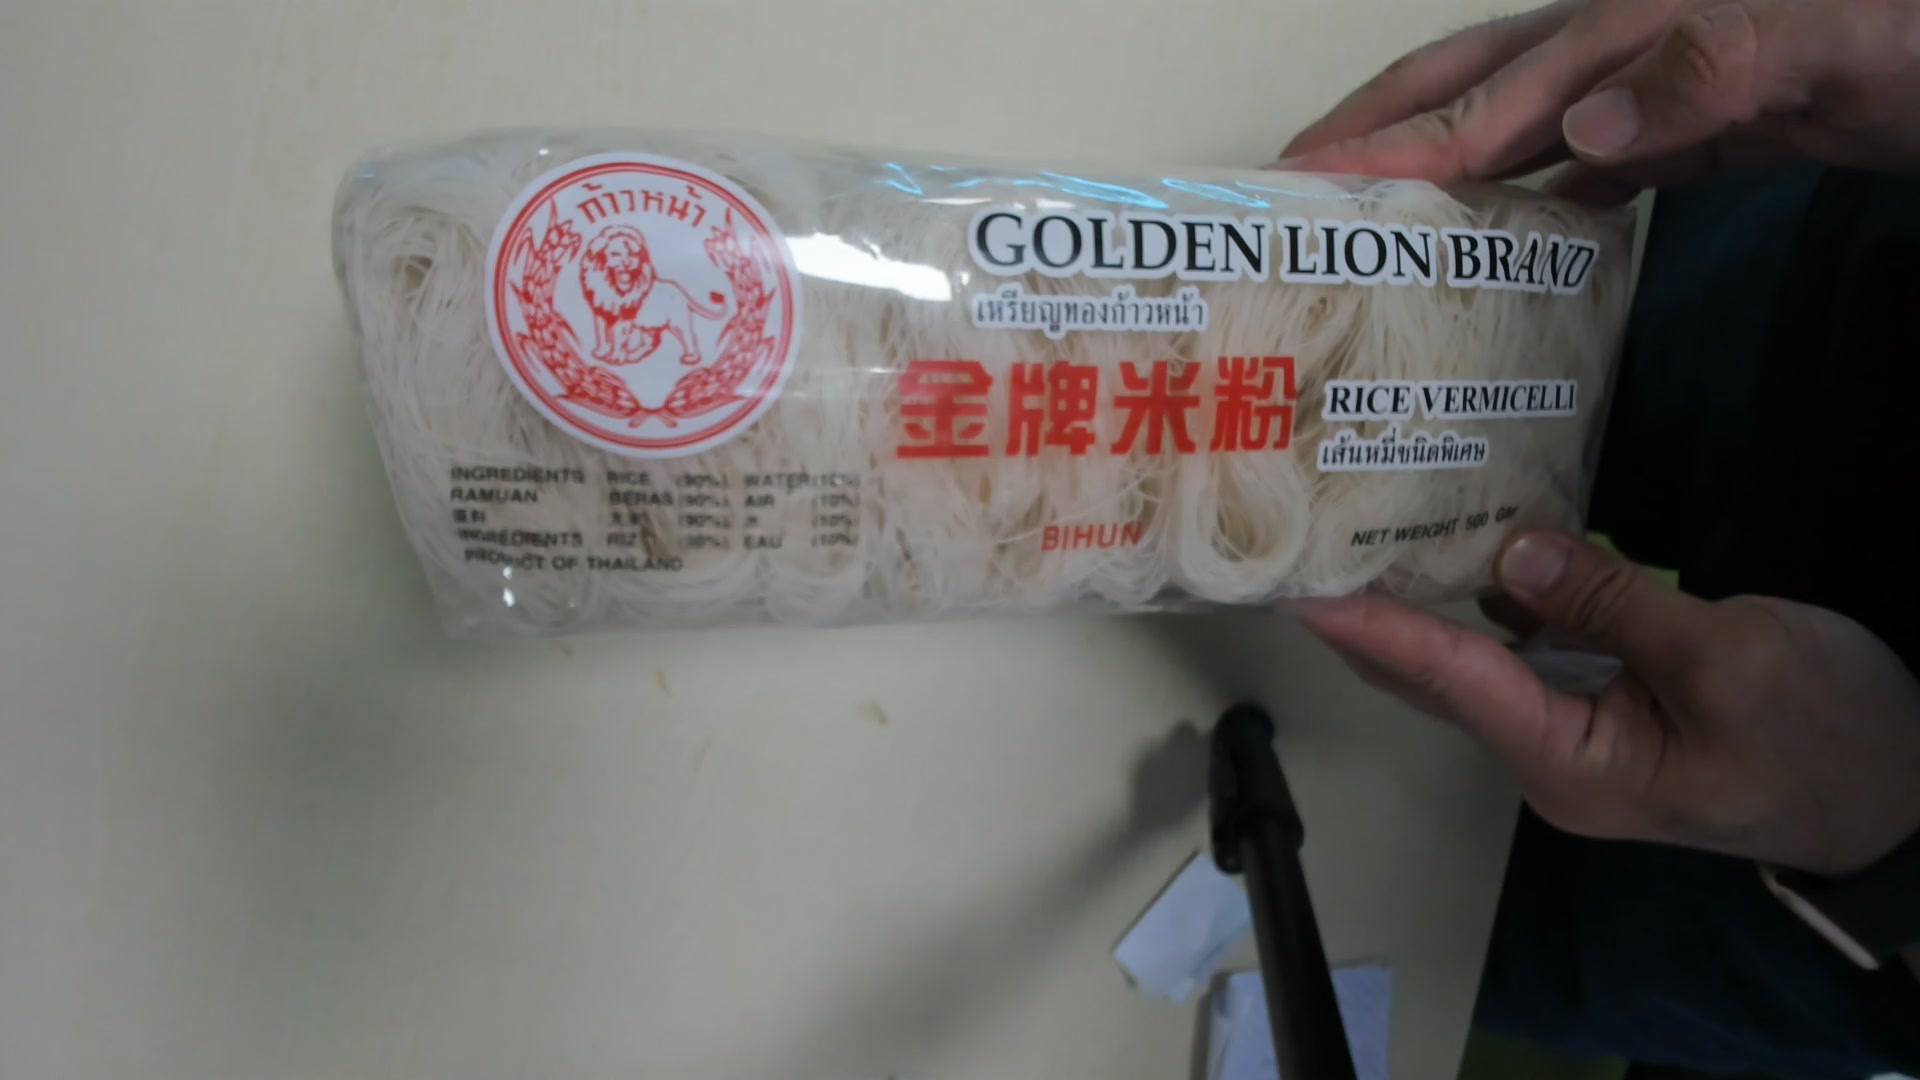BeeHoonVermicelli_500-599g_Halal_NonHealthy: (328, 127, 1617, 633)
